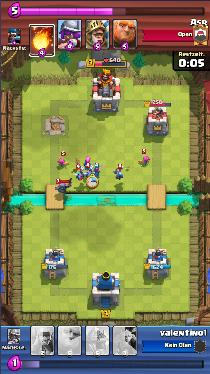ally_archer: (93, 166, 100, 177)
enemy_archer: (139, 155, 150, 166), (57, 159, 68, 168)
enemy_mini_pekka: (56, 181, 72, 194)
enemy_minion: (114, 167, 123, 180), (74, 170, 85, 180), (84, 168, 92, 178)
